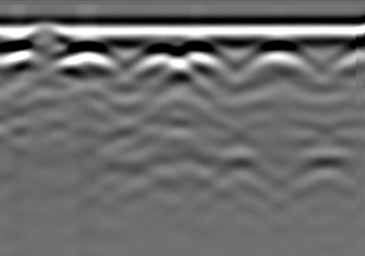pipe: (24, 22, 63, 42)
steel: (60, 43, 115, 73), (255, 42, 307, 73), (140, 45, 182, 78), (185, 44, 219, 71)
